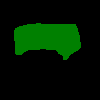mutande: (14, 23, 81, 60)
